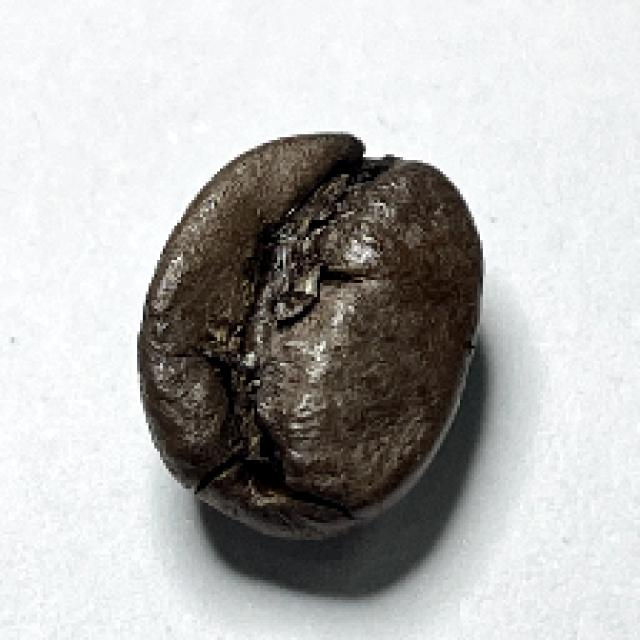bean: (130, 128, 491, 540)
